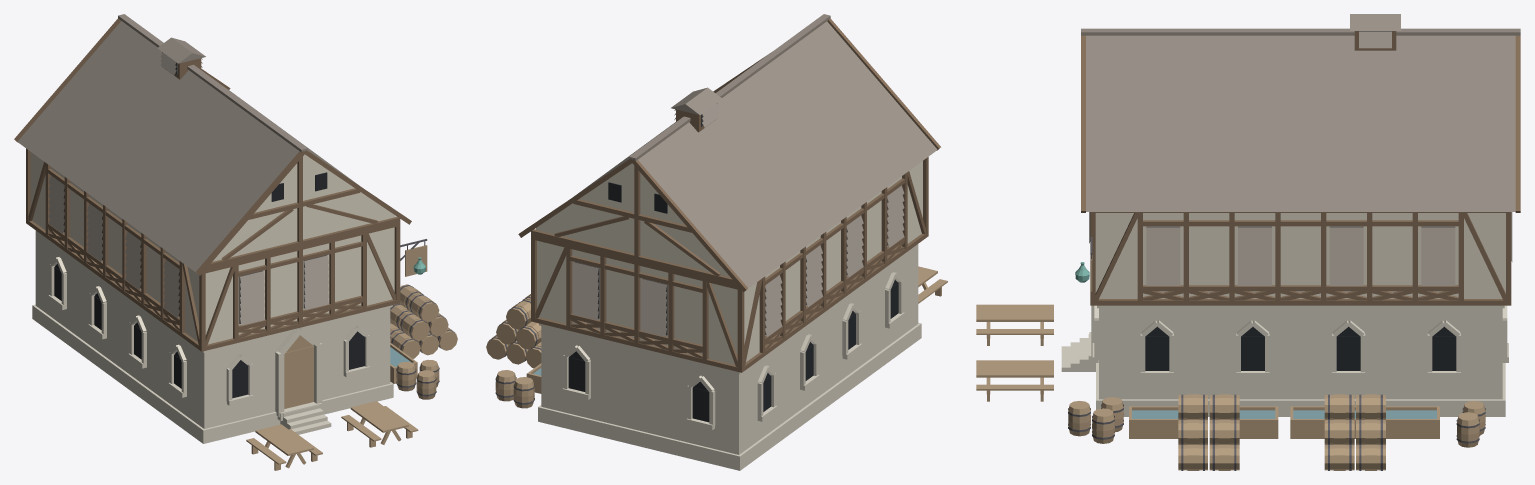
Rendered from house_brewer.glb.
The picture shows the model from 3 angles, left to right: view 1: azimuth 30°, elevation 25°; view 2: azimuth 150°, elevation 25°; view 3: azimuth 270°, elevation 25°; orthographic projection. The views are drawn at different scales.
Visible parts, largest first — view 1: HouseBrewer; view 2: HouseBrewer; view 3: HouseBrewer.
Part boxes in pixels (left/top/right/bottom): HouseBrewer: left=14, top=14, right=457, bottom=470; HouseBrewer: left=486, top=14, right=947, bottom=470; HouseBrewer: left=976, top=14, right=1520, bottom=470.
Size of the model in its own units: 13.94 by 12.85 by 18.2.
